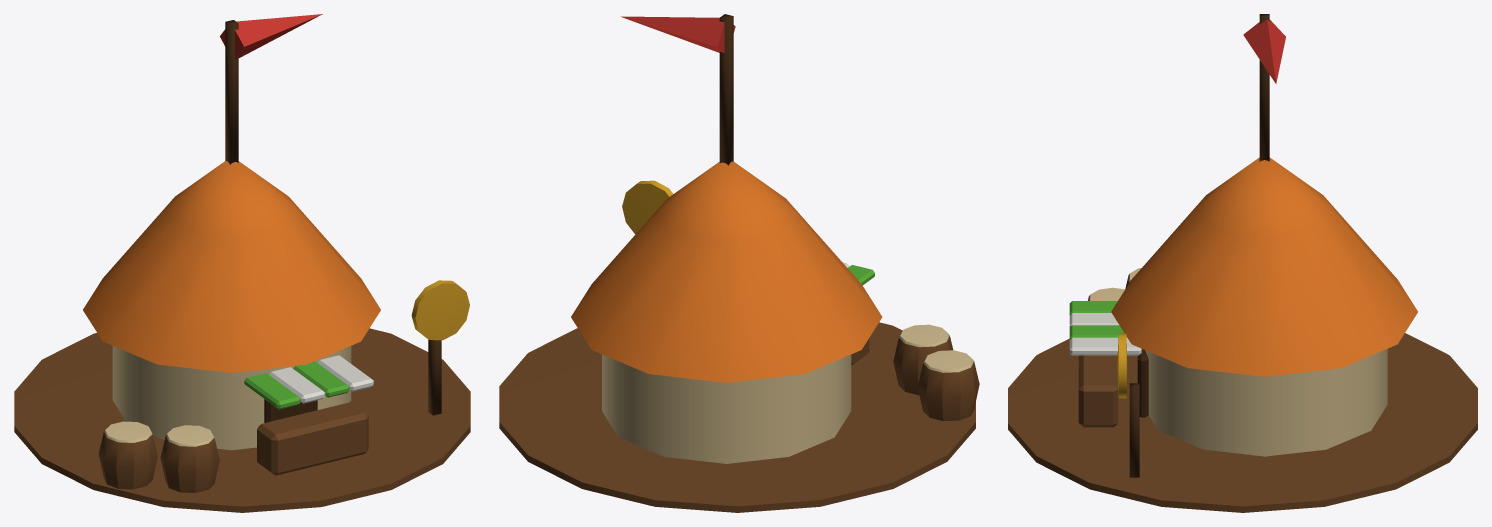
3 views of the same model, side by side, from view 1: azimuth 30°, elevation 25°; view 2: azimuth 150°, elevation 25°; view 3: azimuth 270°, elevation 25° (orthographic). The views are drawn at different scales.
Parts seen in each view (by area): view 1: vila_0_base; view 2: vila_0_base; view 3: vila_0_base.
Boxes of the visible parts, bbox=[...] form: vila_0_base: bbox=[14, 14, 470, 512]; vila_0_base: bbox=[499, 14, 979, 512]; vila_0_base: bbox=[1008, 14, 1477, 512].
Bounding box in the file's own units: 1.32 × 1.21 × 1.3.
